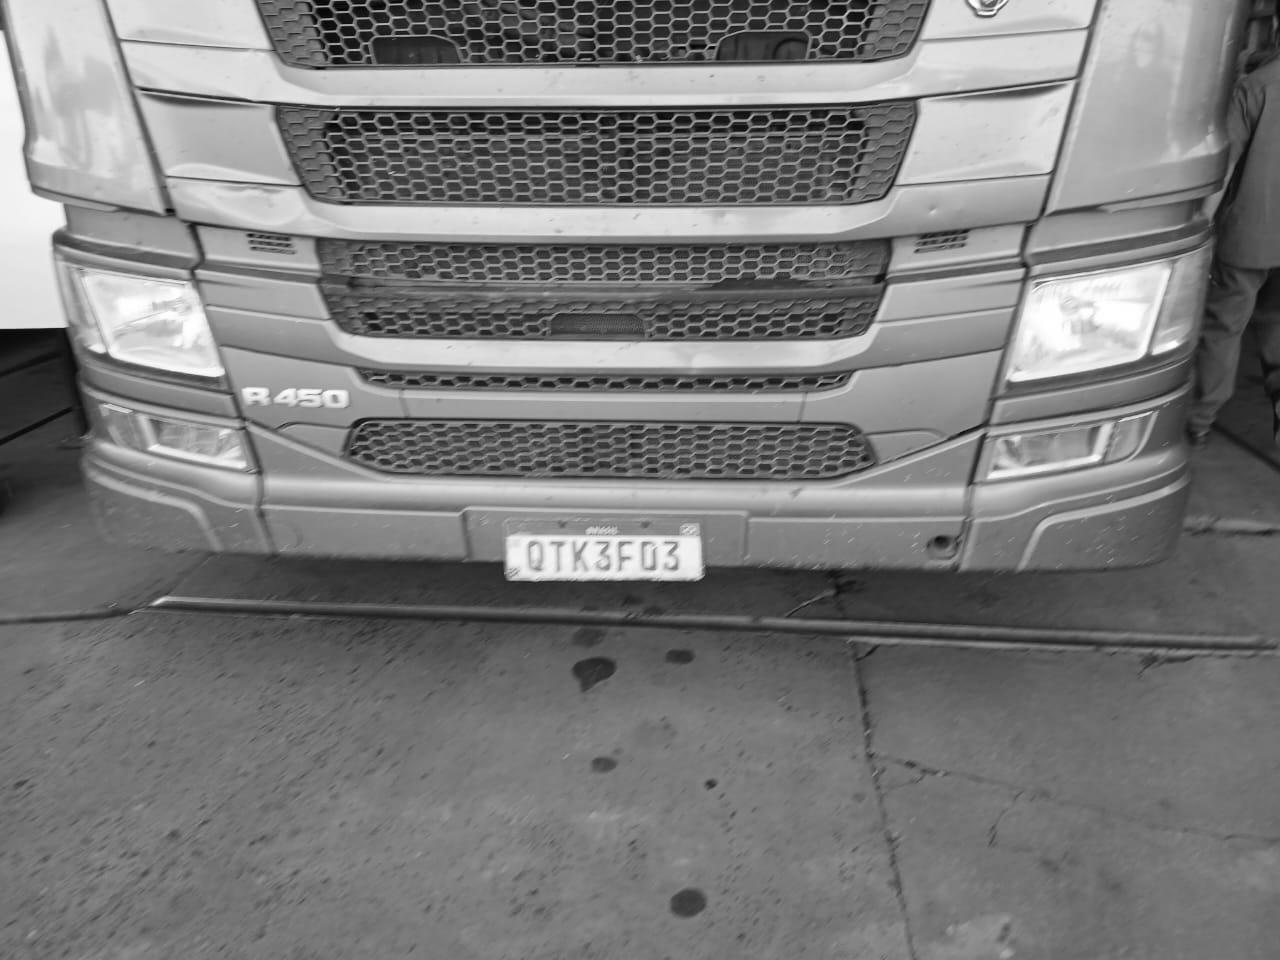placa_mercosul: (506, 516, 706, 582)
